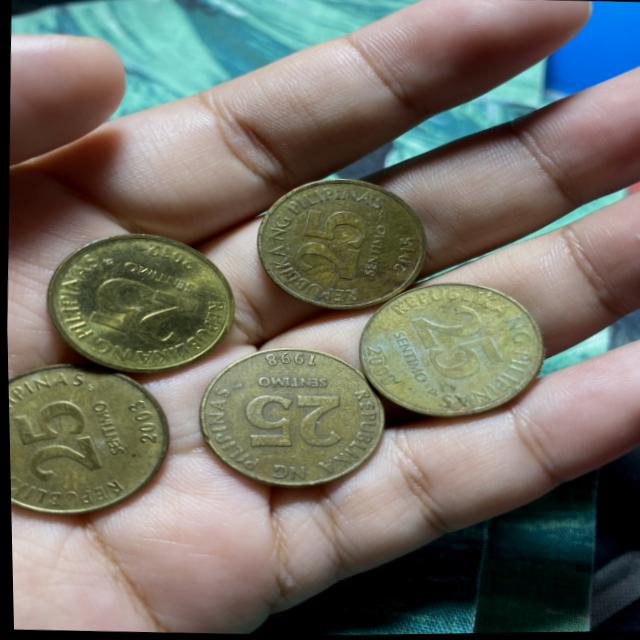25Cent_Old_Front: (8, 396, 107, 480), (407, 303, 505, 382), (85, 276, 188, 347), (235, 388, 343, 453), (295, 208, 368, 283)
